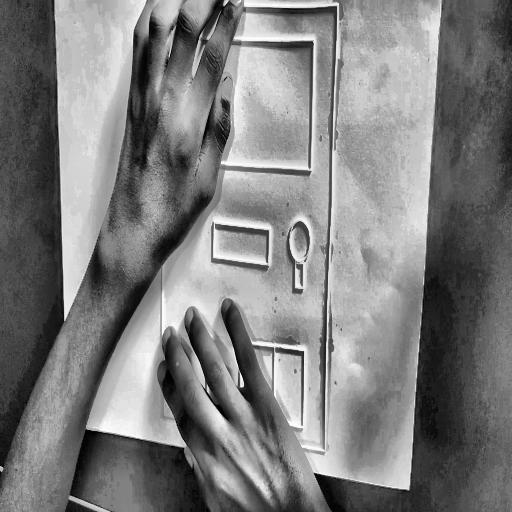bottom_left: (67, 415, 75, 431)
bottom_right: (407, 485, 411, 493)
door: (150, 0, 342, 465)
